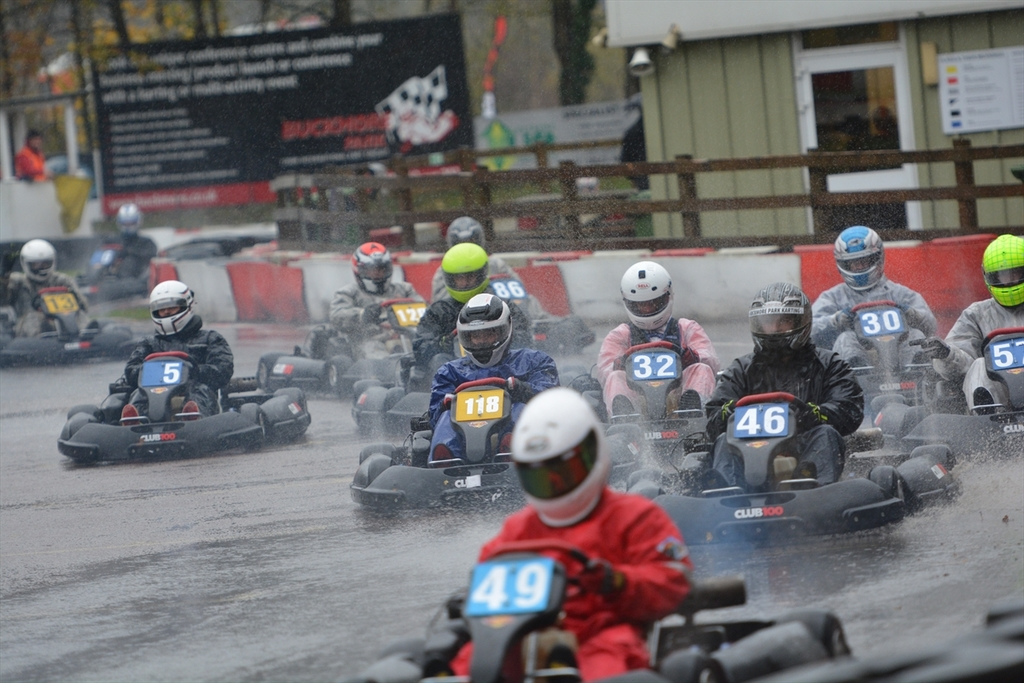Person: (0, 123, 1024, 683)
